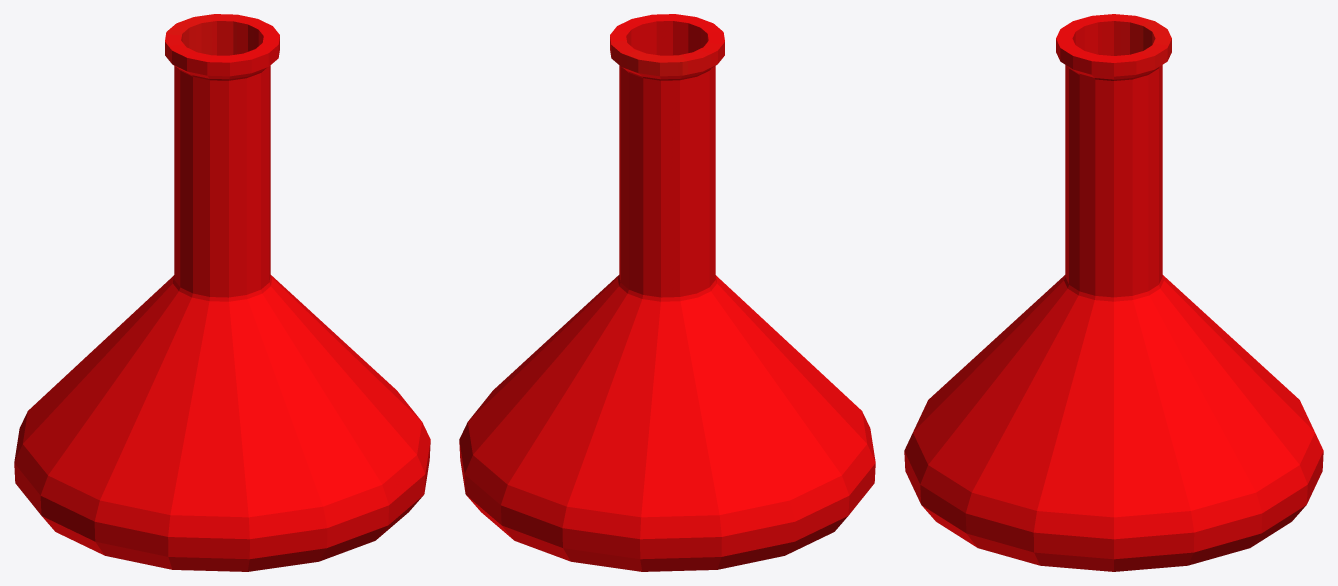
Rendered from fioleRed.fbx.
3 renders of one model, left to right at view 1: azimuth 30°, elevation 25°; view 2: azimuth 150°, elevation 25°; view 3: azimuth 270°, elevation 25°, orthographic.
Parts seen in each view (by area): view 1: MSH_Fiole1; view 2: MSH_Fiole1; view 3: MSH_Fiole1.
Part boxes in pixels (x1,y1,x2,y2): MSH_Fiole1: [14, 14, 430, 571]; MSH_Fiole1: [459, 14, 875, 571]; MSH_Fiole1: [904, 14, 1323, 571].
Size of the model in its own units: 1.68 by 2.06 by 1.68.
